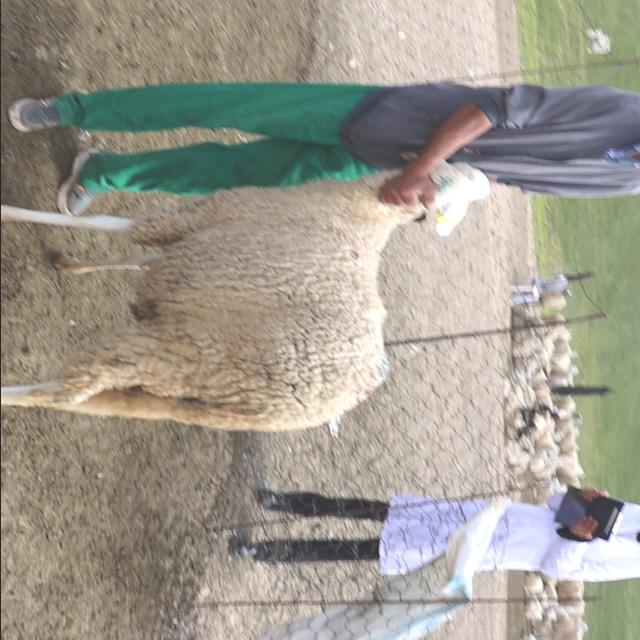Score_5: (1, 161, 489, 432)
